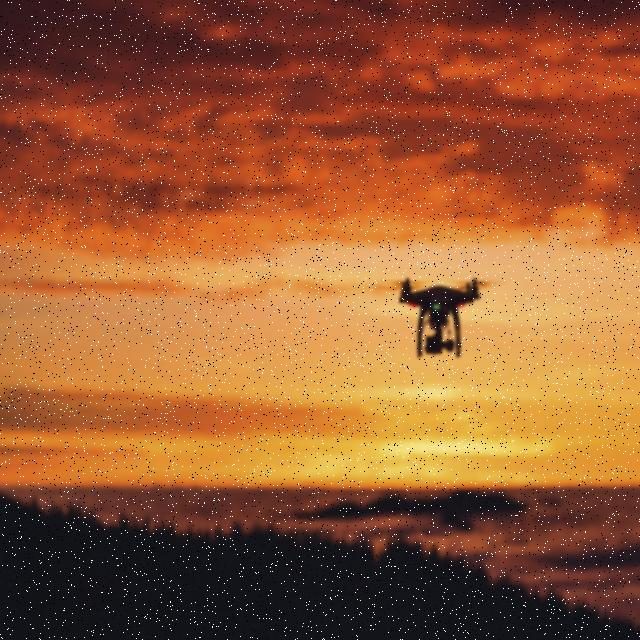UAV: (398, 276, 483, 362)
